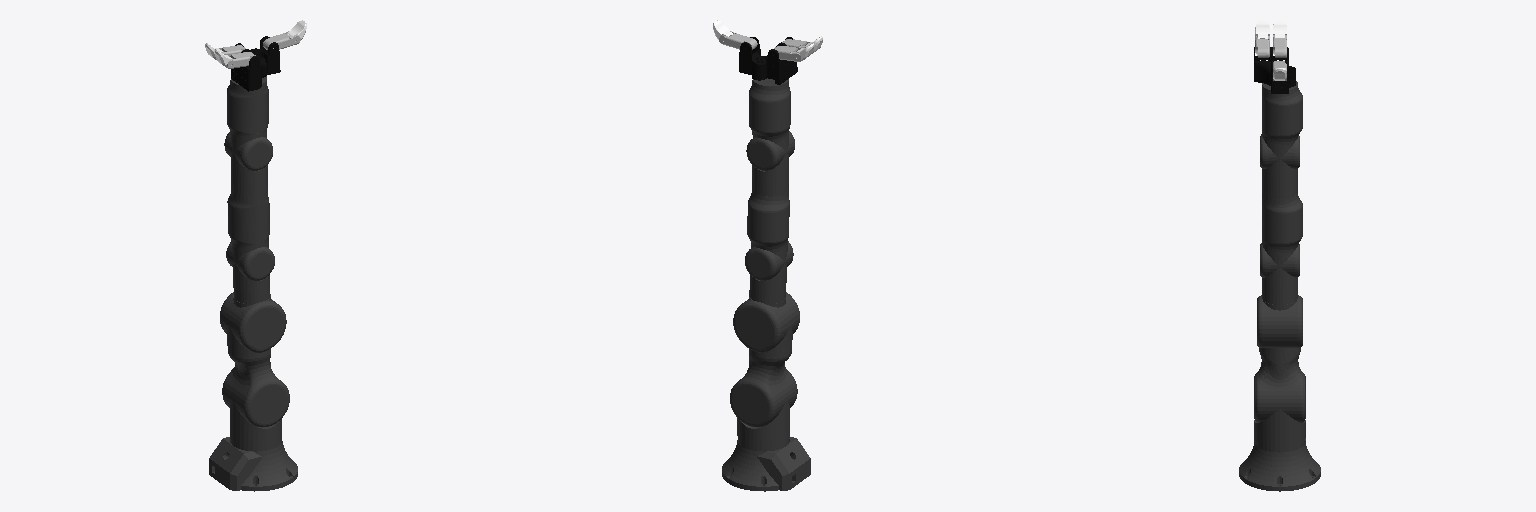
robot.urdf — cool5000_description:
<robot
  name="cool5000_description">
  <link
    name="base_link">
    <inertial>
      <origin
        xyz="-0.00740268122220379 -7.79780809469915E-05 0.0239950122899852"
        rpy="0 0 0" />
      <mass
        value="0.846647435563259" />
      <inertia
        ixx="0.00124634937489685"
        ixy="4.29765018336945E-06"
        ixz="-7.57570937123292E-05"
        iyy="0.00148314322574494"
        iyz="4.28849208327343E-07"
        izz="0.00230841697024344" />
    </inertial>
    <visual>
      <origin
        xyz="0 0 0"
        rpy="0 0 0" />
      <geometry>
        <mesh
          filename="package://cool5000_description/meshes/base_link.STL" />
      </geometry>
      <material
        name="">
        <color
          rgba="0.294117647058824 0.294117647058824 0.294117647058824 1" />
      </material>
    </visual>
    <collision>
      <origin
        xyz="0 0 0"
        rpy="0 0 0" />
      <geometry>
        <mesh
          filename="package://cool5000_description/meshes/base_link.STL" />
      </geometry>
    </collision>
  </link>
  <link
    name="link_1">
    <inertial>
      <origin
        xyz="-3.33066907387547E-16 0.0496052364958285 2.63677968348475E-16"
        rpy="0 0 0" />
      <mass
        value="0.719043302672211" />
      <inertia
        ixx="0.00117471651046128"
        ixy="-3.98078979926578E-19"
        ixz="3.97515123536733E-09"
        iyy="0.000836656671019206"
        iyz="4.41701887843589E-20"
        izz="0.00104420714307512" />
    </inertial>
    <visual>
      <origin
        xyz="0 0 0"
        rpy="0 0 0" />
      <geometry>
        <mesh
          filename="package://cool5000_description/meshes/link_1.STL" />
      </geometry>
      <material
        name="">
        <color
          rgba="0.294117647058824 0.294117647058824 0.294117647058824 1" />
      </material>
    </visual>
    <collision>
      <origin
        xyz="0 0 0"
        rpy="0 0 0" />
      <geometry>
        <mesh
          filename="package://cool5000_description/meshes/link_1.STL" />
      </geometry>
    </collision>
  </link>
  <joint
    name="joint_1"
    type="revolute">
    <origin
      xyz="0 0 0.05"
      rpy="1.5708 0 -1.5708" />
    <parent
      link="base_link" />
    <child
      link="link_1" />
    <axis
      xyz="0 -1 0" />
    <limit
      lower="-1.8316"
      upper="1.8316"
      effort="10"
      velocity="10" />
    <dynamics
      damping="1"
      friction="0" />
  </joint>
  <link
    name="link_2">
    <inertial>
      <origin
        xyz="-5.25883753210721E-10 0.077891592695098 -0.00173116895459743"
        rpy="0 0 0" />
      <mass
        value="1.61922967829458" />
      <inertia
        ixx="0.00952141896520806"
        ixy="-7.55902279201451E-10"
        ixz="2.28241205387629E-09"
        iyy="0.00227197876332403"
        iyz="-5.85856696332501E-05"
        izz="0.00962485940202755" />
    </inertial>
    <visual>
      <origin
        xyz="0 0 0"
        rpy="0 0 0" />
      <geometry>
        <mesh
          filename="package://cool5000_description/meshes/link_2.STL" />
      </geometry>
      <material
        name="">
        <color
          rgba="0.294117647058824 0.294117647058824 0.294117647058824 1" />
      </material>
    </visual>
    <collision>
      <origin
        xyz="0 0 0"
        rpy="0 0 0" />
      <geometry>
        <mesh
          filename="package://cool5000_description/meshes/link_2.STL" />
      </geometry>
    </collision>
  </link>
  <joint
    name="joint_2"
    type="revolute">
    <origin
      xyz="0 0.11532 0"
      rpy="3.1008 0 3.1416" />
    <parent
      link="link_1" />
    <child
      link="link_2" />
    <axis
      xyz="-1 0 0" />
    <limit
      lower="-1.8316"
      upper="1.8316"
      effort="10"
      velocity="10" />
    <dynamics
      damping="1"
      friction="0" />
  </joint>
  <link
    name="link_3">
    <inertial>
      <origin
        xyz="1.04524167099385E-11 0.0480347134192946 2.39744057939362E-10"
        rpy="0 0 0" />
      <mass
        value="0.339009794116155" />
      <inertia
        ixx="0.000380771094524782"
        ixy="6.85673898976251E-14"
        ixz="-1.31981301939392E-10"
        iyy="0.000210169342004298"
        iyz="2.70532654895447E-12"
        izz="0.000361038572188416" />
    </inertial>
    <visual>
      <origin
        xyz="0 0 0"
        rpy="0 0 0" />
      <geometry>
        <mesh
          filename="package://cool5000_description/meshes/link_3.STL" />
      </geometry>
      <material
        name="">
        <color
          rgba="0.294117647058824 0.294117647058824 0.294117647058824 1" />
      </material>
    </visual>
    <collision>
      <origin
        xyz="0 0 0"
        rpy="0 0 0" />
      <geometry>
        <mesh
          filename="package://cool5000_description/meshes/link_3.STL" />
      </geometry>
    </collision>
  </link>
  <joint
    name="joint_3"
    type="revolute">
    <origin
      xyz="0 0.18054 0"
      rpy="-3.1416 0 3.1416" />
    <parent
      link="link_2" />
    <child
      link="link_3" />
    <axis
      xyz="0 -1 0" />
    <limit
      lower="-1.8316"
      upper="1.8316"
      effort="10"
      velocity="10" />
    <dynamics
      damping="1"
      friction="0" />
  </joint>
  <link
    name="link_4">
    <inertial>
      <origin
        xyz="-0.00254018867701789 0.0583678134800137 3.2910200800651E-08"
        rpy="0 0 0" />
      <mass
        value="0.814690604659903" />
      <inertia
        ixx="0.00228163337541819"
        ixy="-5.52494767287994E-05"
        ixz="-3.81161624829084E-10"
        iyy="0.000656317375501096"
        iyz="1.15086631368123E-09"
        izz="0.00234155902857576" />
    </inertial>
    <visual>
      <origin
        xyz="0 0 0"
        rpy="0 0 0" />
      <geometry>
        <mesh
          filename="package://cool5000_description/meshes/link_4.STL" />
      </geometry>
      <material
        name="">
        <color
          rgba="0.294117647058824 0.294117647058824 0.294117647058824 1" />
      </material>
    </visual>
    <collision>
      <origin
        xyz="0 0 0"
        rpy="0 0 0" />
      <geometry>
        <mesh
          filename="package://cool5000_description/meshes/link_4.STL" />
      </geometry>
    </collision>
  </link>
  <joint
    name="joint_4"
    type="revolute">
    <origin
      xyz="0 0.11069 0"
      rpy="-0.024135 0 0" />
    <parent
      link="link_3" />
    <child
      link="link_4" />
    <axis
      xyz="1 0 0" />
    <limit
      lower="-1.8316"
      upper="1.8316"
      effort="10"
      velocity="10" />
    <dynamics
      damping="1"
      friction="0" />
  </joint>
  <link
    name="link_5">
    <inertial>
      <origin
        xyz="3.1919E-16 0.034924 -2.498E-16"
        rpy="0 0 0" />
      <mass
        value="0.25552" />
      <inertia
        ixx="0.00020989"
        ixy="3.7717E-20"
        ixz="-9.452E-11"
        iyy="0.00015061"
        iyz="-8.0256E-20"
        izz="0.00019016" />
    </inertial>
    <visual>
      <origin
        xyz="0 0 0"
        rpy="0 0 0" />
      <geometry>
        <mesh
          filename="package://cool5000_description/meshes/link_5.STL" />
      </geometry>
      <material
        name="">
        <color
          rgba="0.29412 0.29412 0.29412 1" />
      </material>
    </visual>
    <collision>
      <origin
        xyz="0 0 0"
        rpy="0 0 0" />
      <geometry>
        <mesh
          filename="package://cool5000_description/meshes/link_5.STL" />
      </geometry>
    </collision>
  </link>
  <joint
    name="joint_5"
    type="revolute">
    <origin
      xyz="0 0.14559 0"
      rpy="3.1416 0 3.1416" />
    <parent
      link="link_4" />
    <child
      link="link_5" />
    <axis
      xyz="0 -1 0" />
    <limit
      lower="-1.8316"
      upper="1.8316"
      effort="10"
      velocity="10" />
    <dynamics
      damping="1"
      friction="0" />
  </joint>
  <link
    name="link_6">
    <inertial>
      <origin
        xyz="-0.00254019758664627 0.0583678148387304 2.93085136715554E-08"
        rpy="0 0 0" />
      <mass
        value="0.814690577182791" />
      <inertia
        ixx="0.00228163335023692"
        ixy="-5.52497316458464E-05"
        ixz="-5.4774862630866E-10"
        iyy="0.000656317399637272"
        iyz="1.01624769822759E-09"
        izz="0.00234155907195519" />
    </inertial>
    <visual>
      <origin
        xyz="0 0 0"
        rpy="0 0 0" />
      <geometry>
        <mesh
          filename="package://cool5000_description/meshes/link_6.STL" />
      </geometry>
      <material
        name="">
        <color
          rgba="0.294117647058824 0.294117647058824 0.294117647058824 1" />
      </material>
    </visual>
    <collision>
      <origin
        xyz="0 0 0"
        rpy="0 0 0" />
      <geometry>
        <mesh
          filename="package://cool5000_description/meshes/link_6.STL" />
      </geometry>
    </collision>
  </link>
  <joint
    name="joint_6"
    type="revolute">
    <origin
      xyz="0 0.086106 0"
      rpy="3.1249 0 3.1416" />
    <parent
      link="link_5" />
    <child
      link="link_6" />
    <axis
      xyz="1 0 0" />
    <limit
      lower="-1.8316"
      upper="1.8316"
      effort="10"
      velocity="10" />
    <dynamics
      damping="1"
      friction="0" />
  </joint>
  <link
    name="link_7">
    <inertial>
      <origin
        xyz="-0.0157359919124219 0.0267735850795847 -0.00585726369761212"
        rpy="0 0 0" />
      <mass
        value="0.0663146280462201" />
      <inertia
        ixx="3.51823768198827E-05"
        ixy="1.80403658071225E-06"
        ixz="5.10242578839165E-06"
        iyy="4.53712886350439E-05"
        iyz="-5.80343198434449E-07"
        izz="4.52104045249864E-05" />
    </inertial>
    <visual>
      <origin
        xyz="0 0 0"
        rpy="0 0 0" />
      <geometry>
        <mesh
          filename="package://cool5000_description/meshes/link_7.STL" />
      </geometry>
      <material
        name="">
        <color
          rgba="0.0980392156862745 0.0980392156862745 0.0980392156862745 1" />
      </material>
    </visual>
    <collision>
      <origin
        xyz="0 0 0"
        rpy="0 0 0" />
      <geometry>
        <mesh
          filename="package://cool5000_description/meshes/link_7.STL" />
      </geometry>
    </collision>
  </link>
  <joint
    name="joint_7"
    type="revolute">
    <origin
      xyz="0 0.14391 0"
      rpy="3.1416 0 3.1416" />
    <parent
      link="link_6" />
    <child
      link="link_7" />
    <axis
      xyz="0 -1 0" />
    <limit
      lower="-1.8316"
      upper="1.8316"
      effort="10"
      velocity="10" />
    <dynamics
      damping="1"
      friction="0" />
  </joint>
  <link
    name="thumb_base_link">
    <inertial>
      <origin
        xyz="0.0132042378500769 0.0234969914482088 -0.0243371472747438"
        rpy="0 0 0" />
      <mass
        value="0.0250536582156801" />
      <inertia
        ixx="1.24125301031144E-05"
        ixy="-2.83031580289554E-07"
        ixz="-1.90103572081108E-06"
        iyy="1.01010909304267E-05"
        iyz="2.74232716775453E-07"
        izz="1.13658370606256E-05" />
    </inertial>
    <visual>
      <origin
        xyz="0 0 0"
        rpy="0 0 0" />
      <geometry>
        <mesh
          filename="package://cool5000_description/meshes/thumb_base_link.STL" />
      </geometry>
      <material
        name="">
        <color
          rgba="0.0980392156862745 0.0980392156862745 0.0980392156862745 1" />
      </material>
    </visual>
    <collision>
      <origin
        xyz="0 0 0"
        rpy="0 0 0" />
      <geometry>
        <mesh
          filename="package://cool5000_description/meshes/thumb_base_link.STL" />
      </geometry>
    </collision>
  </link>
  <joint
    name="thumb_base_joint"
    type="revolute">
    <origin
      xyz="0.017 0.00766 0.015"
      rpy="3.1416 0 3.1416" />
    <parent
      link="link_7" />
    <child
      link="thumb_base_link" />
    <axis
      xyz="0 -1 0" />
    <limit
      lower="-3.14"
      upper="0"
      effort="10"
      velocity="10" />
    <dynamics
      damping="1"
      friction="0" />
  </joint>
  <link
    name="thumb_link">
    <inertial>
      <origin
        xyz="0.000257542711170844 0.0245473507529242 -0.01585564056727"
        rpy="0 0 0" />
      <mass
        value="0.0142460359671903" />
      <inertia
        ixx="5.45928119105848E-06"
        ixy="5.35921679734639E-08"
        ixz="1.06618719103158E-09"
        iyy="1.94494581177676E-06"
        iyz="4.27982772569645E-07"
        izz="4.60377760842711E-06" />
    </inertial>
    <visual>
      <origin
        xyz="0 0 0"
        rpy="0 0 0" />
      <geometry>
        <mesh
          filename="package://cool5000_description/meshes/thumb_link.STL" />
      </geometry>
      <material
        name="">
        <color
          rgba="0.752941176470588 0.752941176470588 0.752941176470588 1" />
      </material>
    </visual>
    <collision>
      <origin
        xyz="0 0 0"
        rpy="0 0 0" />
      <geometry>
        <mesh
          filename="package://cool5000_description/meshes/thumb_link.STL" />
      </geometry>
    </collision>
  </link>
  <joint
    name="thumb_joint"
    type="revolute">
    <origin
      xyz="0.0024171 0.053 -0.0306"
      rpy="-1.5708 -0.061634 1.5708" />
    <parent
      link="thumb_base_link" />
    <child
      link="thumb_link" />
    <axis
      xyz="0 0 -1" />
    <limit
      lower="0"
      upper="1.57"
      effort="10"
      velocity="10" />
    <dynamics
      damping="1"
      friction="0" />
  </joint>
  <link
    name="thumb_tip_link">
    <inertial>
      <origin
        xyz="0.000430423208405806 0.0145677663158648 -0.0146076096310272"
        rpy="0 0 0" />
      <mass
        value="0.0136837265694944" />
      <inertia
        ixx="2.52125952097266E-06"
        ixy="2.20172830468166E-07"
        ixz="-1.28605855894363E-12"
        iyy="1.06485994855152E-06"
        iyz="-3.20679728993764E-12"
        izz="2.14936389442943E-06" />
    </inertial>
    <visual>
      <origin
        xyz="0 0 0"
        rpy="0 0 0" />
      <geometry>
        <mesh
          filename="package://cool5000_description/meshes/thumb_tip_link.STL" />
      </geometry>
      <material
        name="">
        <color
          rgba="1 1 1 1" />
      </material>
    </visual>
    <collision>
      <origin
        xyz="0 0 0"
        rpy="0 0 0" />
      <geometry>
        <mesh
          filename="package://cool5000_description/meshes/thumb_tip_link.STL" />
      </geometry>
    </collision>
  </link>
  <joint
    name="thumb_tip_joint"
    type="revolute">
    <origin
      xyz="0 0.05 -7.5235E-05"
      rpy="0 0 -0.55821" />
    <parent
      link="thumb_link" />
    <child
      link="thumb_tip_link" />
    <axis
      xyz="0 0 -1" />
    <limit
      lower="0"
      upper="0.6"
      effort="10"
      velocity="10" />
    <dynamics
      damping="1"
      friction="0" />
  </joint>
  <link
    name="index_link">
    <inertial>
      <origin
        xyz="0.000257542884015027 0.0245473508746751 -0.00127277532465074"
        rpy="0 0 0" />
      <mass
        value="0.0142460362818288" />
      <inertia
        ixx="5.459281242954E-06"
        ixy="5.35921832983915E-08"
        ixz="1.06621210847428E-09"
        iyy="1.94494586812968E-06"
        iyz="4.27982777835809E-07"
        izz="4.60377765128542E-06" />
    </inertial>
    <visual>
      <origin
        xyz="0 0 0"
        rpy="0 0 0" />
      <geometry>
        <mesh
          filename="package://cool5000_description/meshes/index_link.STL" />
      </geometry>
      <material
        name="">
        <color
          rgba="0.752941176470588 0.752941176470588 0.752941176470588 1" />
      </material>
    </visual>
    <collision>
      <origin
        xyz="0 0 0"
        rpy="0 0 0" />
      <geometry>
        <mesh
          filename="package://cool5000_description/meshes/index_link.STL" />
      </geometry>
    </collision>
  </link>
  <joint
    name="index_joint"
    type="revolute">
    <origin
      xyz="0 0.06066 -0.015"
      rpy="-1.5708 -0.09388 1.5708" />
    <parent
      link="link_7" />
    <child
      link="index_link" />
    <axis
      xyz="0 0 1" />
    <limit
      lower="-1.57"
      upper="0"
      effort="10"
      velocity="10" />
    <dynamics
      damping="1"
      friction="0" />
  </joint>
  <link
    name="index_tip_link">
    <inertial>
      <origin
        xyz="0.000430423191002949 0.0145677662387191 -9.99796106573442E-05"
        rpy="0 0 0" />
      <mass
        value="0.0136837262049962" />
      <inertia
        ixx="2.52125939109024E-06"
        ixy="2.20172809709828E-07"
        ixz="-1.28455746158007E-12"
        iyy="1.06485996747754E-06"
        iyz="-3.2099935263311E-12"
        izz="2.14936375284952E-06" />
    </inertial>
    <visual>
      <origin
        xyz="0 0 0"
        rpy="0 0 0" />
      <geometry>
        <mesh
          filename="package://cool5000_description/meshes/index_tip_link.STL" />
      </geometry>
      <material
        name="">
        <color
          rgba="1 1 1 1" />
      </material>
    </visual>
    <collision>
      <origin
        xyz="0 0 0"
        rpy="0 0 0" />
      <geometry>
        <mesh
          filename="package://cool5000_description/meshes/index_tip_link.STL" />
      </geometry>
    </collision>
  </link>
  <joint
    name="index_tip_joint"
    type="revolute">
    <origin
      xyz="0 0.05 0"
      rpy="3.3626E-15 2.8721E-15 -0.5438" />
    <parent
      link="index_link" />
    <child
      link="index_tip_link" />
    <axis
      xyz="0 0 1" />
    <limit
      lower="-0.6"
      upper="0"
      effort="10"
      velocity="10" />
    <dynamics
      damping="1"
      friction="0" />
  </joint>
  <link
    name="middle_link">
    <inertial>
      <origin
        xyz="0.000257541500020553 0.0245473518142074 0.0134662437638456"
        rpy="0 0 0" />
      <mass
        value="0.0142460370761395" />
      <inertia
        ixx="5.45928143724118E-06"
        ixy="5.35919821875036E-08"
        ixz="1.06633074508268E-09"
        iyy="1.94494598435035E-06"
        iyz="4.27982678396304E-07"
        izz="4.60377789616687E-06" />
    </inertial>
    <visual>
      <origin
        xyz="0 0 0"
        rpy="0 0 0" />
      <geometry>
        <mesh
          filename="package://cool5000_description/meshes/middle_link.STL" />
      </geometry>
      <material
        name="">
        <color
          rgba="0.752941176470588 0.752941176470588 0.752941176470588 1" />
      </material>
    </visual>
    <collision>
      <origin
        xyz="0 0 0"
        rpy="0 0 0" />
      <geometry>
        <mesh
          filename="package://cool5000_description/meshes/middle_link.STL" />
      </geometry>
    </collision>
  </link>
  <joint
    name="middle_joint"
    type="revolute">
    <origin
      xyz="-0.019261 0.06066 -0.015"
      rpy="-1.5708 -0.07681 1.5708" />
    <parent
      link="link_7" />
    <child
      link="middle_link" />
    <axis
      xyz="0 0 1" />
    <limit
      lower="-1.57"
      upper="0"
      effort="10"
      velocity="10" />
    <dynamics
      damping="1"
      friction="0" />
  </joint>
  <link
    name="middle_tip_link">
    <inertial>
      <origin
        xyz="0.000430423168644389 0.0145677660227165 0.0140020214628581"
        rpy="0 0 0" />
      <mass
        value="0.0136837253150211" />
      <inertia
        ixx="2.5212590452186E-06"
        ixy="2.20172754188985E-07"
        ixz="-1.2803643025991E-12"
        iyy="1.0648600231441E-06"
        iyz="-3.21879103332143E-12"
        izz="2.14936337367978E-06" />
    </inertial>
    <visual>
      <origin
        xyz="0 0 0"
        rpy="0 0 0" />
      <geometry>
        <mesh
          filename="package://cool5000_description/meshes/middle_tip_link.STL" />
      </geometry>
      <material
        name="">
        <color
          rgba="1 1 1 1" />
      </material>
    </visual>
    <collision>
      <origin
        xyz="0 0 0"
        rpy="0 0 0" />
      <geometry>
        <mesh
          filename="package://cool5000_description/meshes/middle_tip_link.STL" />
      </geometry>
    </collision>
  </link>
  <joint
    name="middle_tip_joint"
    type="revolute">
    <origin
      xyz="0 0.05 0.00063702"
      rpy="5.443E-15 4.7618E-15 -0.60878" />
    <parent
      link="middle_link" />
    <child
      link="middle_tip_link" />
    <axis
      xyz="0 0 1" />
    <limit
      lower="-0.6"
      upper="0"
      effort="10"
      velocity="10" />
    <dynamics
      damping="1"
      friction="0" />
  </joint>
</robot>

--- Render facts (derived) ---
Views: 3 orthographic renders of the robot side by side, from view 1: azimuth 30°, elevation 25°; view 2: azimuth 150°, elevation 25°; view 3: azimuth 270°, elevation 25°.
Robot: cool5000_description — 15 links, 14 joints (14 revolute); root link base_link; default pose: all joints at 0.
Links seen in each view (by area): view 1: link_2, link_4, base_link, link_6, link_1, link_5, link_3, link_7, thumb_base_link; view 2: link_2, link_6, link_4, base_link, link_1, link_5, link_3, link_7, thumb_base_link; view 3: link_2, link_4, link_6, base_link, link_1, link_3, link_5, link_7.
Link boxes in pixels (box(x1,y1,x2,y2)): link_2: box(220, 292, 289, 427); link_4: box(226, 190, 274, 280); base_link: box(209, 437, 297, 491); link_6: box(224, 76, 272, 170); link_1: box(230, 402, 281, 451); link_5: box(231, 153, 267, 196); link_3: box(233, 263, 270, 307); link_7: box(231, 43, 266, 91); thumb_base_link: box(251, 36, 280, 74); link_2: box(730, 292, 799, 426); link_6: box(746, 78, 794, 170); link_4: box(745, 190, 793, 280); base_link: box(722, 437, 810, 491); link_1: box(737, 401, 789, 451); link_5: box(752, 153, 788, 196); link_3: box(749, 264, 786, 307); link_7: box(752, 37, 797, 84); thumb_base_link: box(739, 37, 766, 80); link_2: box(1254, 295, 1305, 422); link_4: box(1260, 193, 1302, 277); link_6: box(1260, 81, 1302, 168); base_link: box(1239, 438, 1320, 491); link_1: box(1254, 408, 1305, 452); link_3: box(1262, 268, 1297, 310); link_5: box(1262, 159, 1297, 198); link_7: box(1254, 47, 1295, 85).
Size in the robot's own frame: 0.2176 by 0.16 by 0.928 metres.
Meshes: 15 distinct files referenced, 15 mesh visuals loaded (15 binary STL).